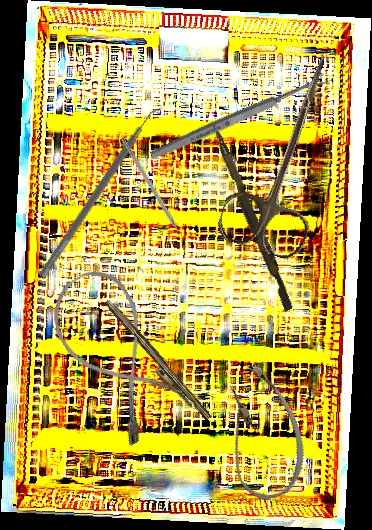Cannula: (37, 259, 197, 449), (203, 357, 319, 507)
Hook Surgical: (119, 136, 191, 250)
Iris Scissors: (213, 40, 362, 264)
Pusher: (202, 120, 299, 312)
Scalpel Handle: (102, 297, 216, 421)
Spatula Surgical: (38, 99, 166, 284)
Surgical Spoon: (149, 72, 328, 162)
